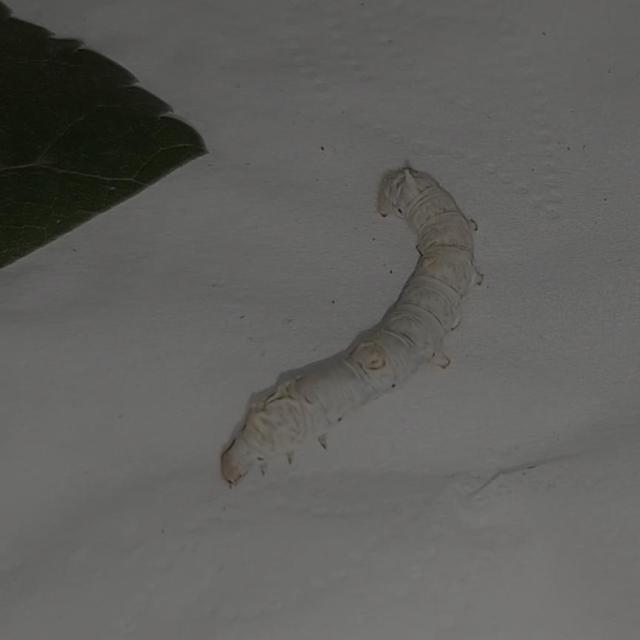Healthy: (188, 142, 514, 507)
